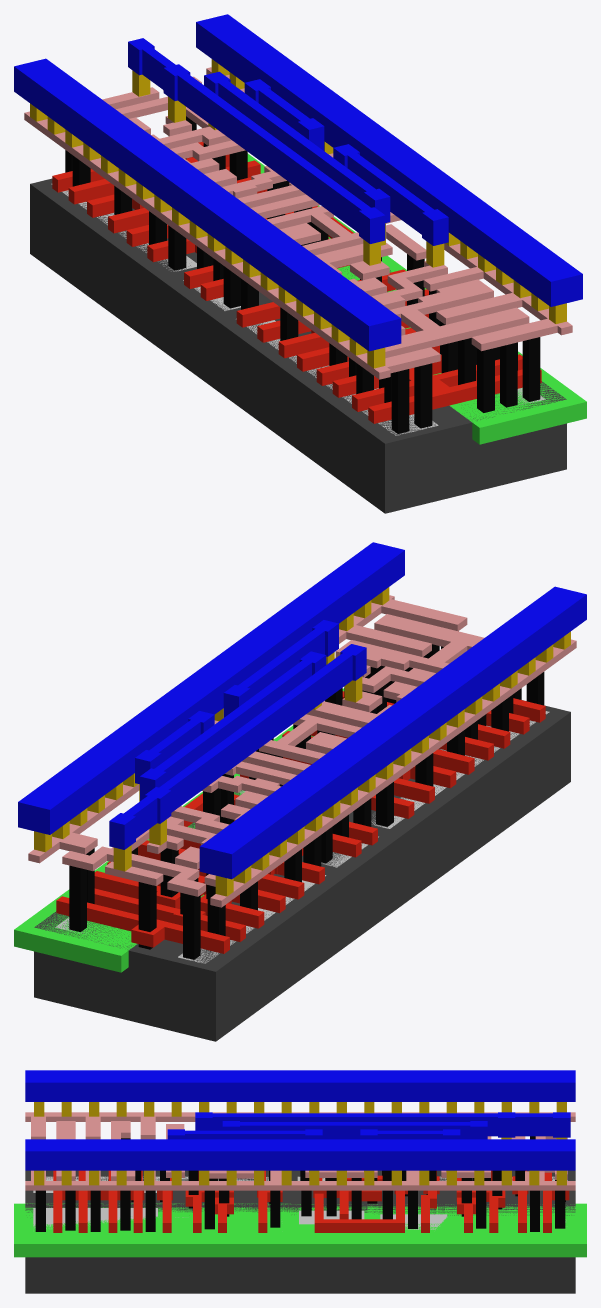
File: sky130_fd_sc_hd__mux4_4.obj
3 views of the same model, one above another, from view 1: azimuth 30°, elevation 25°; view 2: azimuth 150°, elevation 25°; view 3: azimuth 270°, elevation 25° (orthographic). The views are drawn at different scales.
Visible parts, largest first — view 1: metal1, subs, li, licon, poly, mcon, nwell, diff; view 2: metal1, subs, li, poly, licon, mcon, nwell, diff; view 3: metal1, subs, nwell, li, poly, licon, mcon, tap, diff.
Part boxes in pixels (<box>): metal1: <box>14,14,582,351</box>; subs: <box>30,178,566,513</box>; li: <box>24,67,572,379</box>; licon: <box>65,116,540,433</box>; poly: <box>52,142,541,423</box>; mcon: <box>30,59,566,368</box>; nwell: <box>247,153,586,444</box>; diff: <box>51,183,438,435</box>; metal1: <box>18,542,586,879</box>; subs: <box>34,700,570,1041</box>; li: <box>28,595,576,907</box>; poly: <box>56,691,545,953</box>; licon: <box>69,644,544,959</box>; mcon: <box>34,587,570,896</box>; nwell: <box>14,688,344,972</box>; diff: <box>178,711,549,963</box>; metal1: <box>25,1070,575,1170</box>; subs: <box>25,1170,575,1293</box>; nwell: <box>14,1203,586,1257</box>; li: <box>25,1112,575,1190</box>; poly: <box>53,1170,569,1232</box>; licon: <box>35,1136,565,1231</box>; mcon: <box>34,1102,566,1185</box>; tap: <box>33,1208,566,1229</box>; diff: <box>33,1176,567,1192</box>.
Size of the model in its own units: 3.2 by 2.74 by 9.58.
